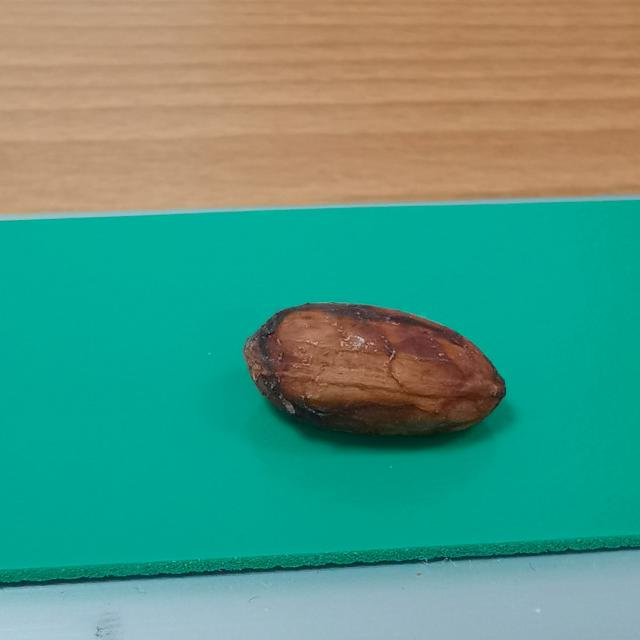Fine_cocoabeans: (131, 250, 570, 504)
